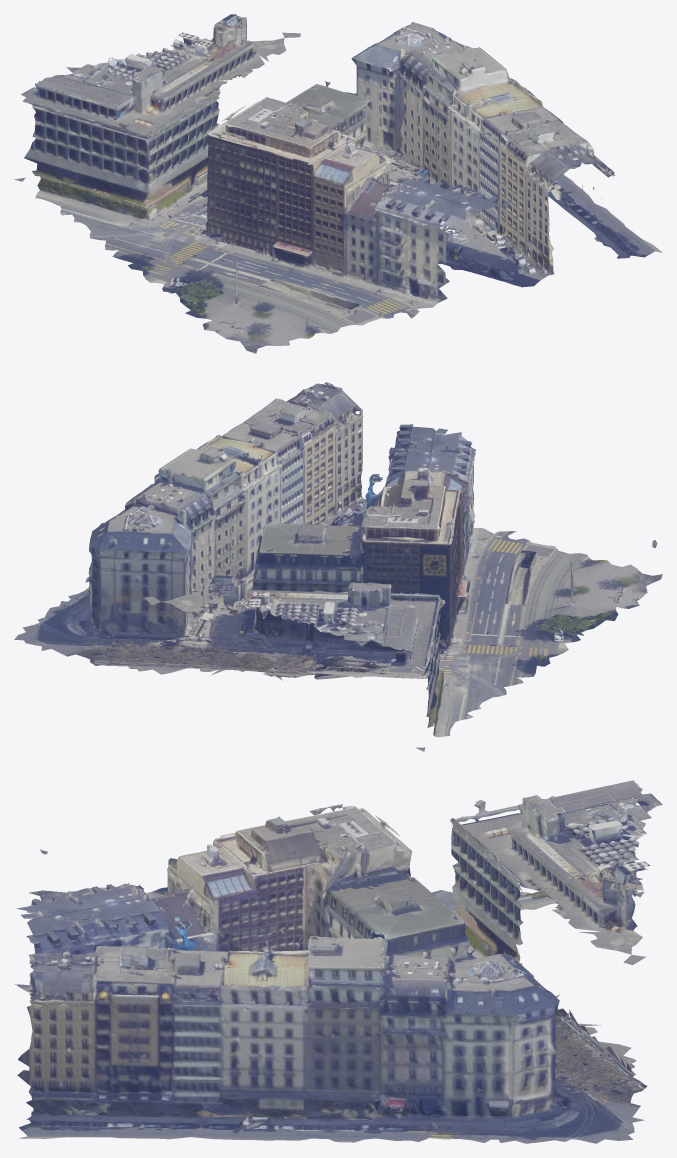
3 renders of one model, top to bottom at view 1: azimuth 30°, elevation 25°; view 2: azimuth 150°, elevation 25°; view 3: azimuth 270°, elevation 25°, orthographic. The views are drawn at different scales.
Size of the model in its own units: 107 by 32.45 by 109.
Materials: 1 (1 with a texture image).
